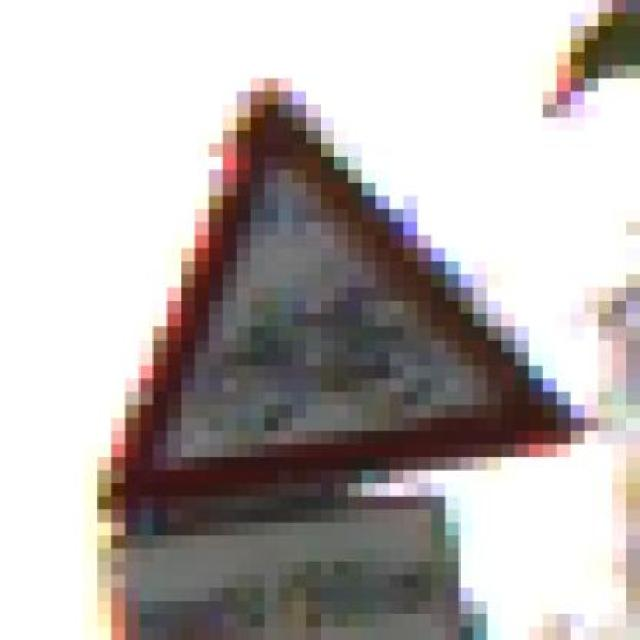CYCLE ROUTE AHEAD WARNING: (41, 78, 598, 510)
